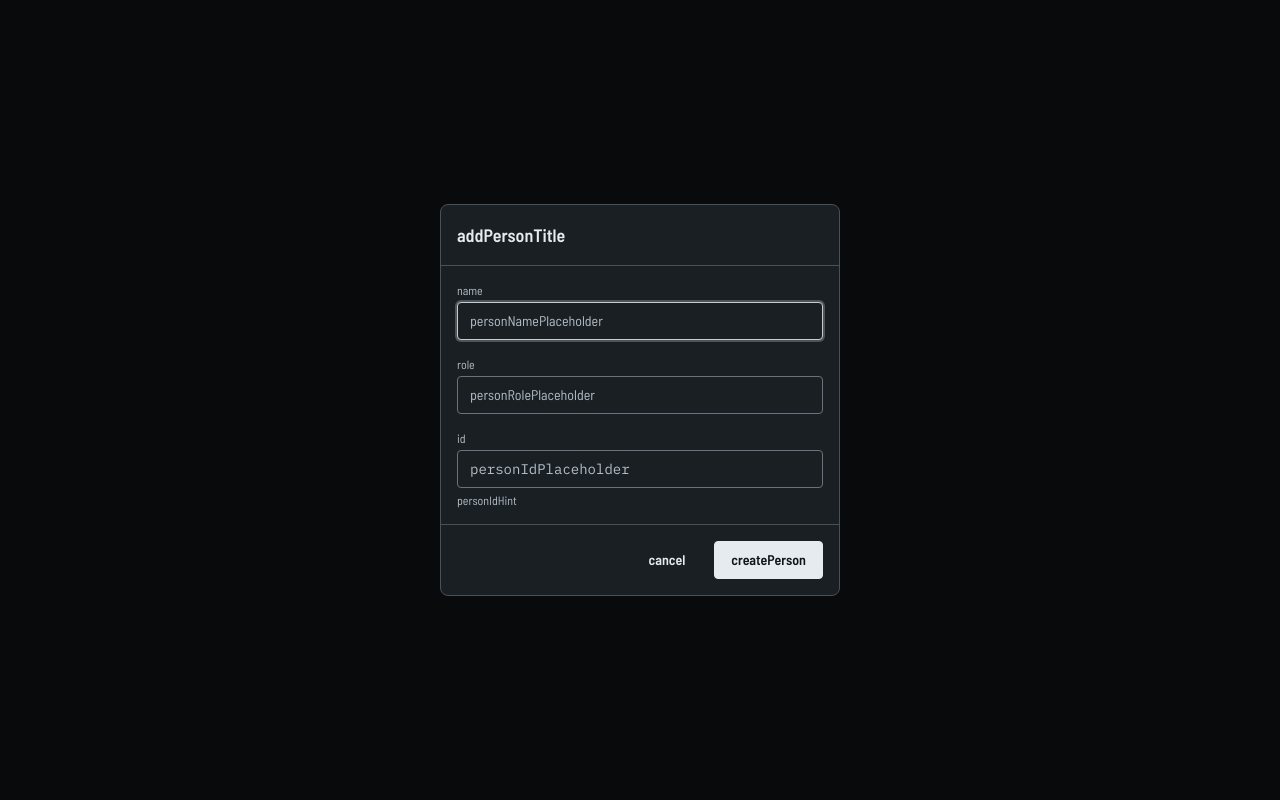
Test: AddPersonModal › shows the server error when creation fails
Type "Ana" into the field labelled "name" at coordinates (640, 321), box left=457, top=302, right=823, bottom=340
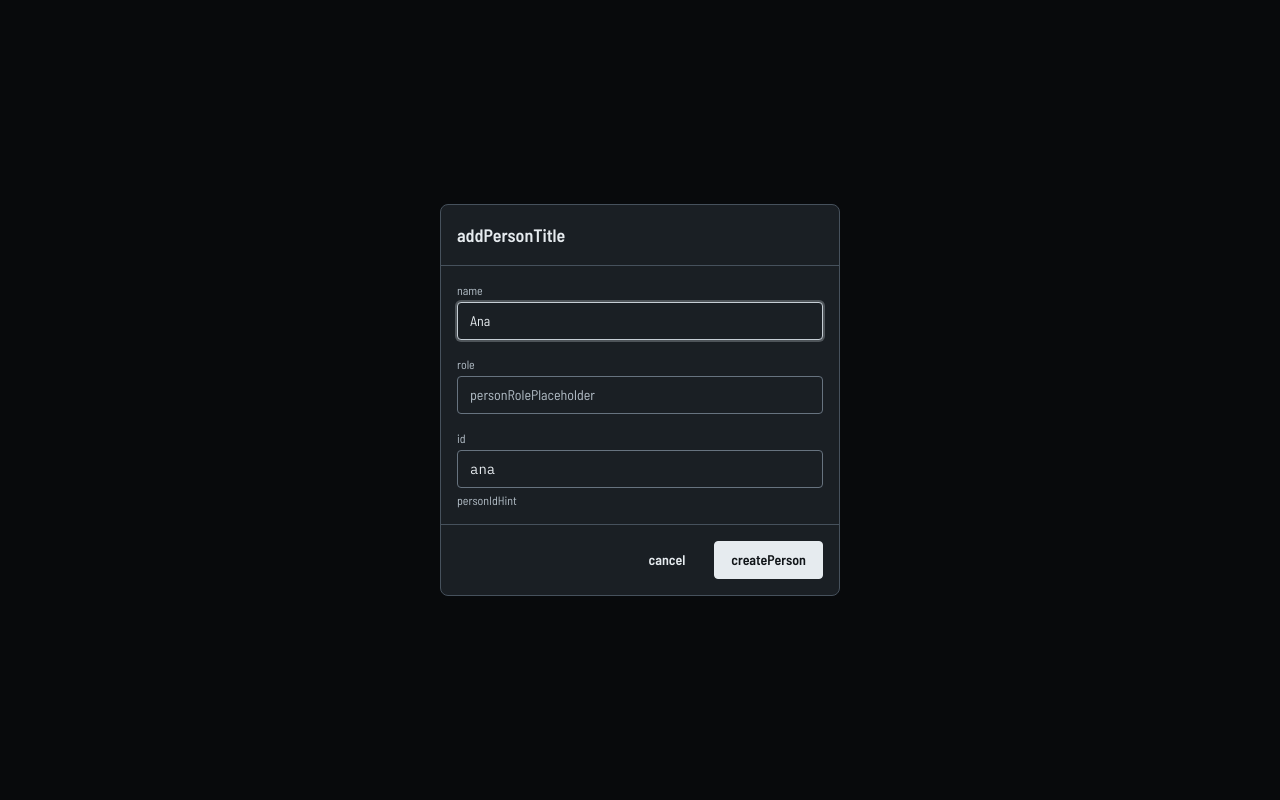
Click the button "createPerson" at coordinates (769, 560), box left=714, top=541, right=823, bottom=579
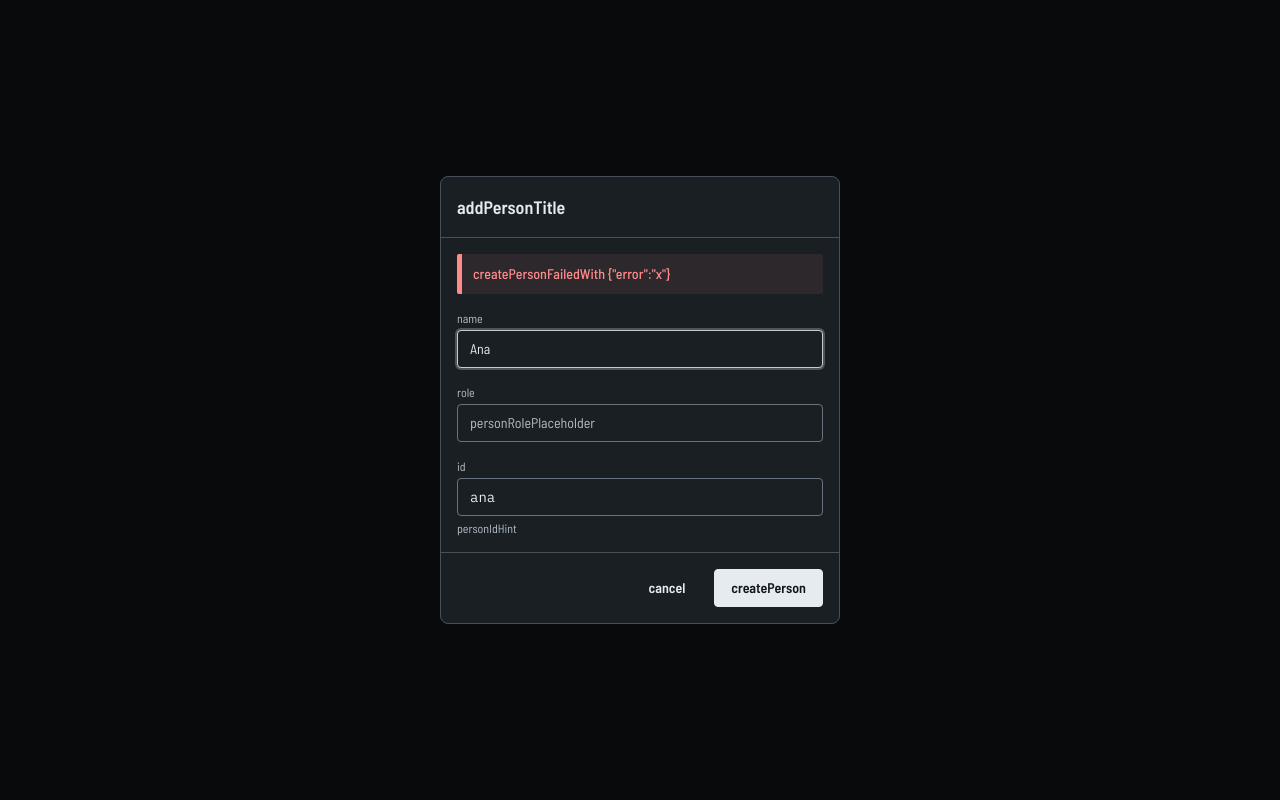
Check: the message shows "createPersonFailedWith", box left=473, top=265, right=670, bottom=282
